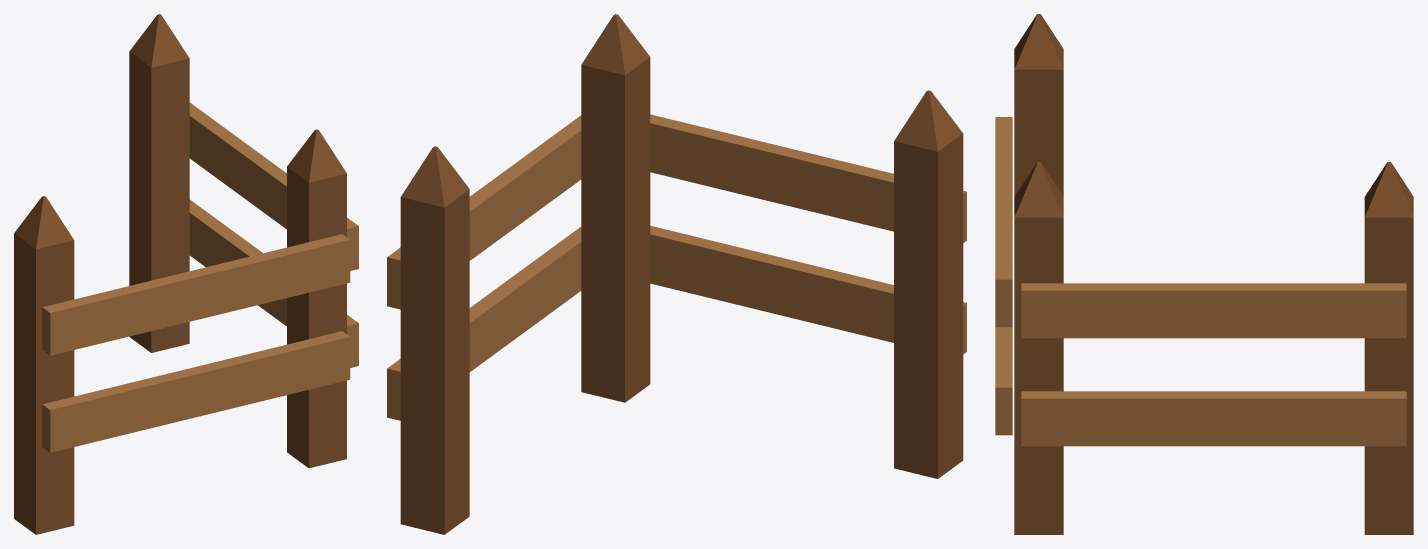
The model's file is Fence_Corner.fbx.
3 renders of one model, left to right at view 1: azimuth 30°, elevation 25°; view 2: azimuth 150°, elevation 25°; view 3: azimuth 270°, elevation 25°, orthographic. The views are drawn at different scales.
Parts seen in each view (by area): view 1: Fence_Corner; view 2: Fence_Corner; view 3: Fence_Corner.
Boxes of the visible parts, left/top/right/bottom form: Fence_Corner: left=14, top=14, right=358, bottom=534; Fence_Corner: left=387, top=14, right=966, bottom=534; Fence_Corner: left=995, top=14, right=1413, bottom=534.
Bounding box in the file's own units: 1.2 × 1.14 × 1.2.
